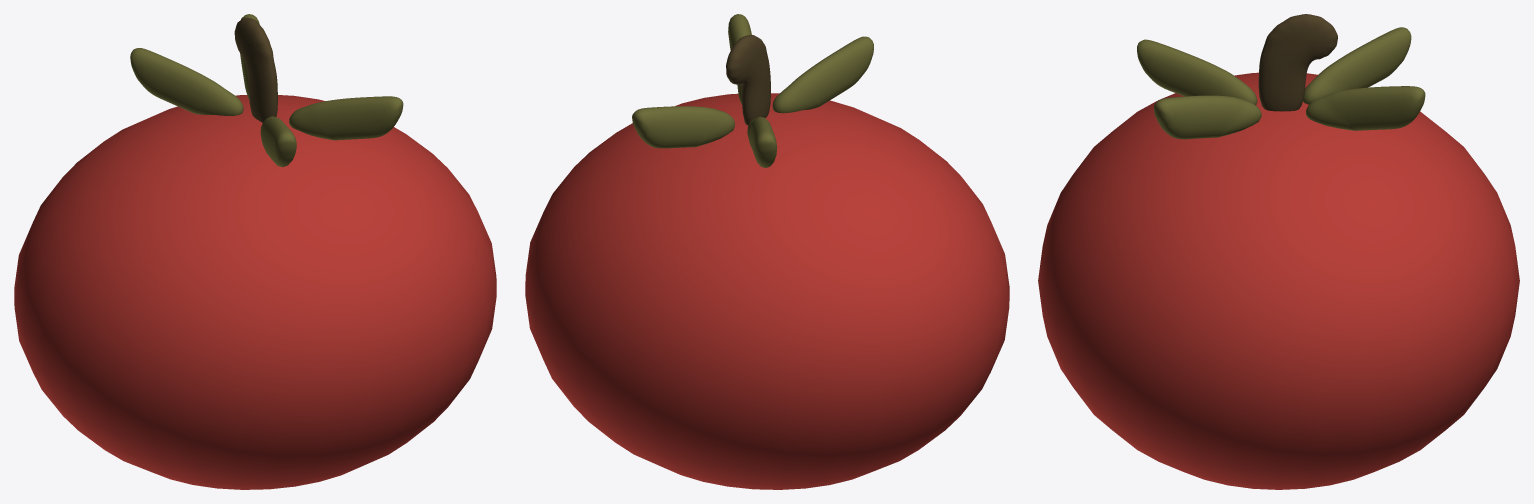
Rendered from pomidor.gltf.
The picture shows the model from 3 angles, left to right: view 1: azimuth 30°, elevation 25°; view 2: azimuth 150°, elevation 25°; view 3: azimuth 270°, elevation 25°; orthographic projection. The views are drawn at different scales.
Visible parts, largest first — view 1: cialo.003, listek1.006, ogonek.003, listek1.001; view 2: cialo.003, listek1.001, ogonek.003, listek1.006; view 3: cialo.003, listek1.001, listek1.006, ogonek.003.
Part boxes in pixels (left/top/right/bottom): cialo.003: left=14, top=95, right=496, bottom=489; listek1.006: left=130, top=48, right=403, bottom=140; ogonek.003: left=234, top=17, right=277, bottom=122; listek1.001: left=240, top=14, right=296, bottom=167; cialo.003: left=525, top=93, right=1009, bottom=489; listek1.001: left=632, top=36, right=873, bottom=148; ogonek.003: left=726, top=35, right=770, bottom=125; listek1.006: left=728, top=14, right=777, bottom=168; cialo.003: left=1038, top=72, right=1519, bottom=489; listek1.001: left=1137, top=39, right=1425, bottom=130; listek1.006: left=1154, top=27, right=1411, bottom=139; ogonek.003: left=1258, top=14, right=1337, bottom=111.
Bounding box in the file's own units: 2.26 × 2.19 × 2.12.
